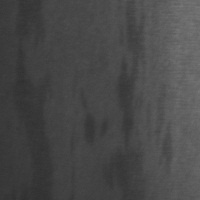inclusion: (10, 11, 56, 198), (105, 18, 152, 196), (154, 96, 176, 180), (75, 89, 101, 148)
